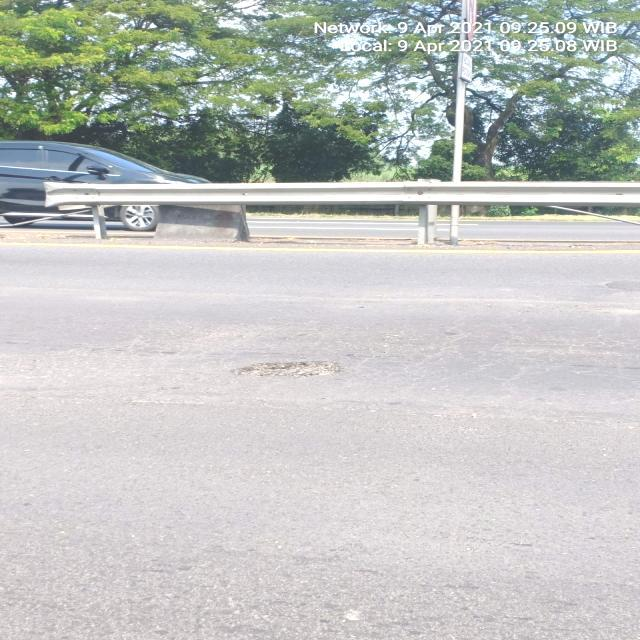Buraco: (229, 359, 344, 381)
